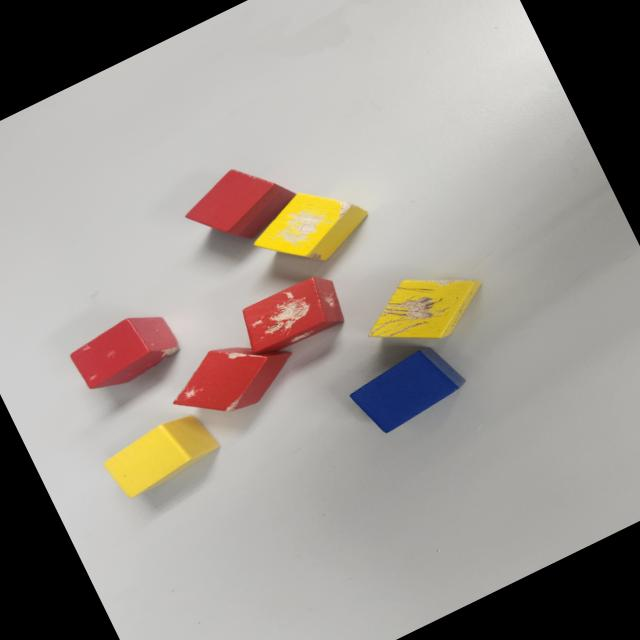blue: (344, 336, 470, 439)
broken: (160, 318, 304, 435), (354, 250, 496, 366), (242, 168, 379, 284), (64, 302, 185, 401), (234, 267, 352, 364)
red: (174, 148, 306, 262)
yellow: (98, 406, 223, 504)
